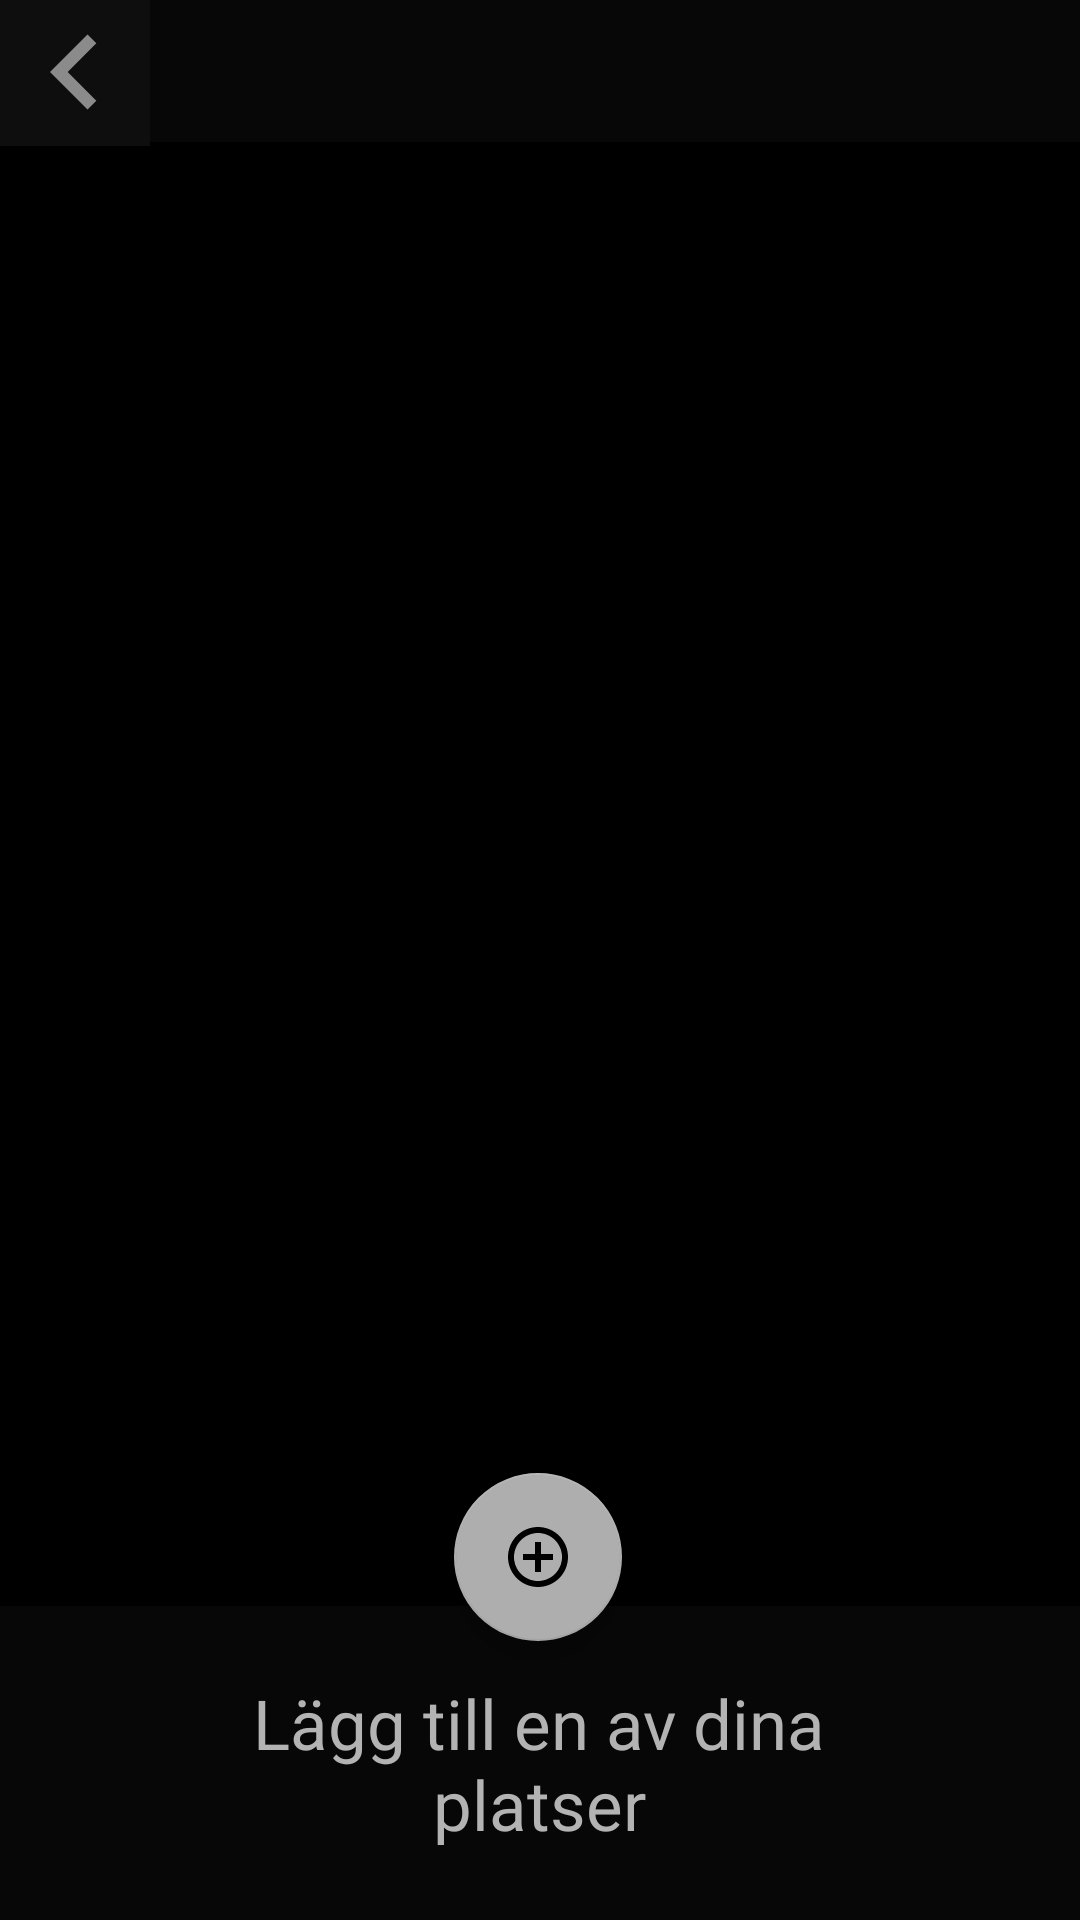

Icons on this 1080×1920 Android screen, each with its box as {"left": x1, "top": y1, "right": x2, "bottom": y2}:
add circle: {"left": 454, "top": 1473, "right": 622, "bottom": 1641}
navigate before: {"left": 50, "top": 34, "right": 96, "bottom": 110}
